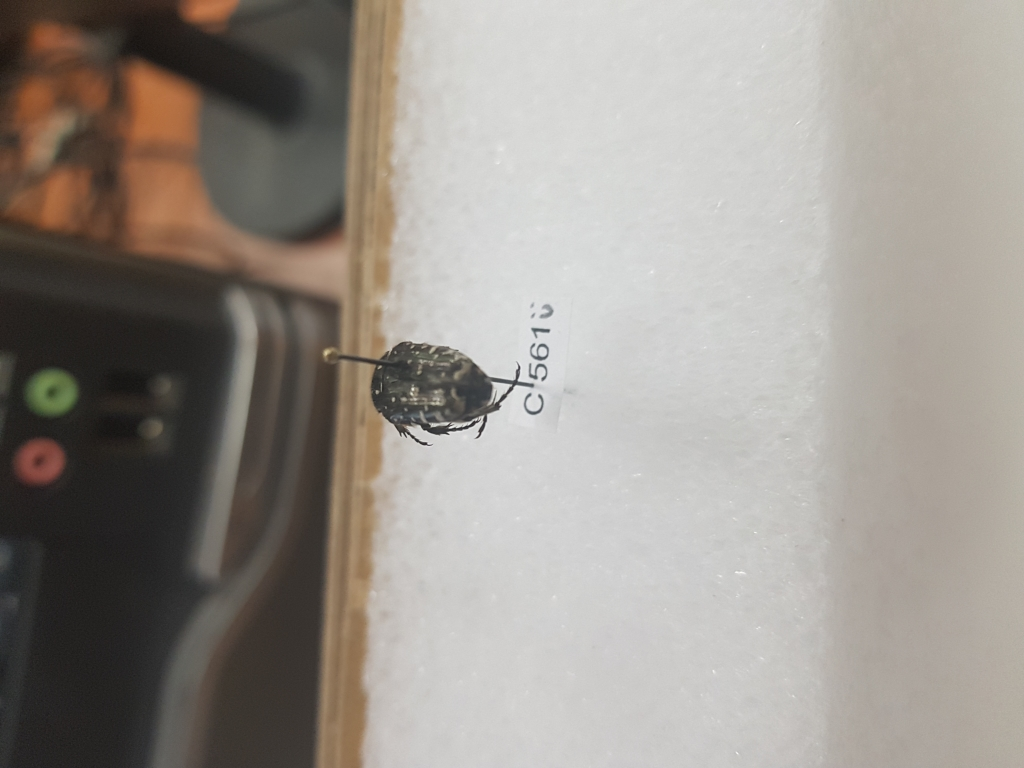Oxythyrea_funesta: (358, 334, 527, 451)
